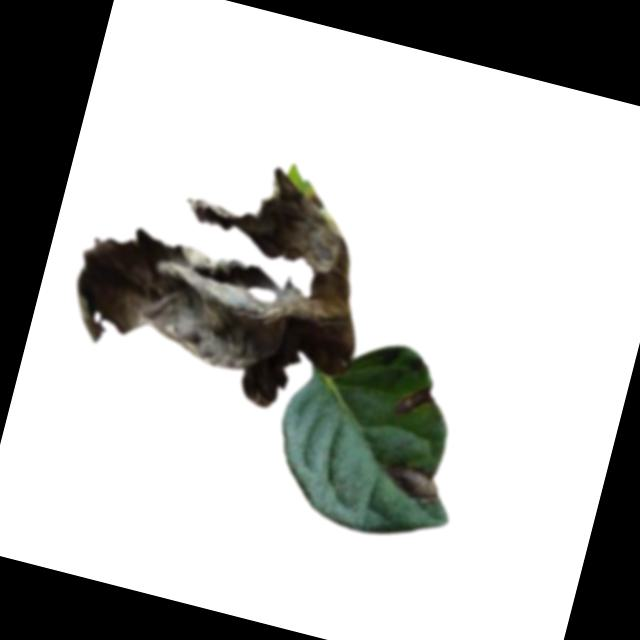Early_blight: (62, 127, 396, 426), (376, 459, 450, 509), (394, 379, 438, 423)
